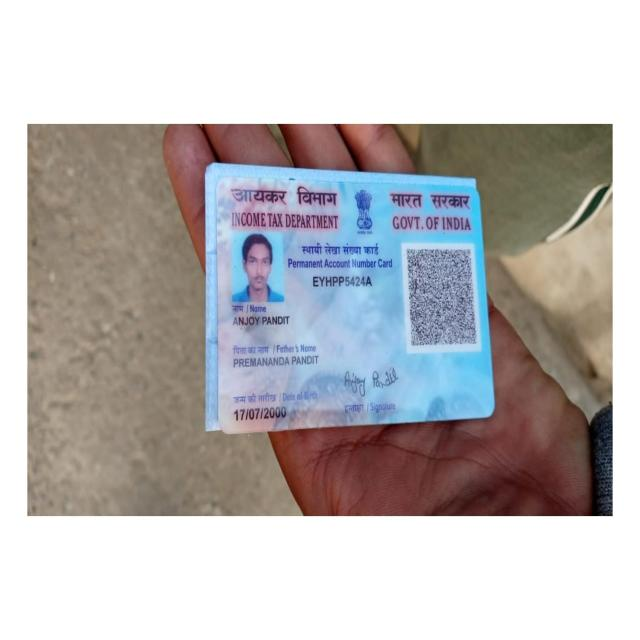pan_card: (219, 179, 490, 432)
